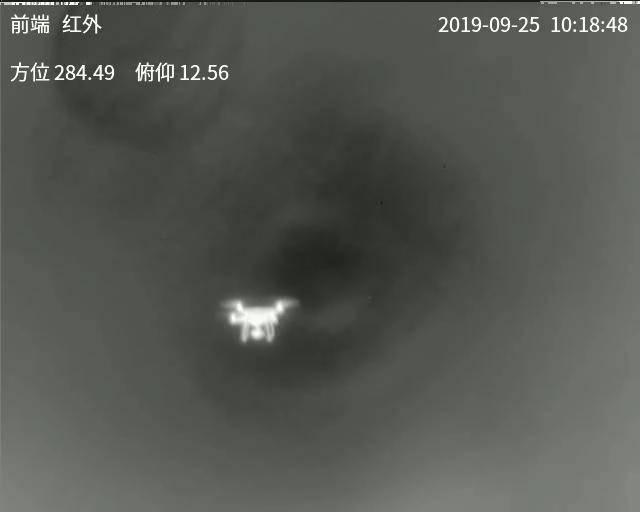uav: (216, 293, 298, 345)
